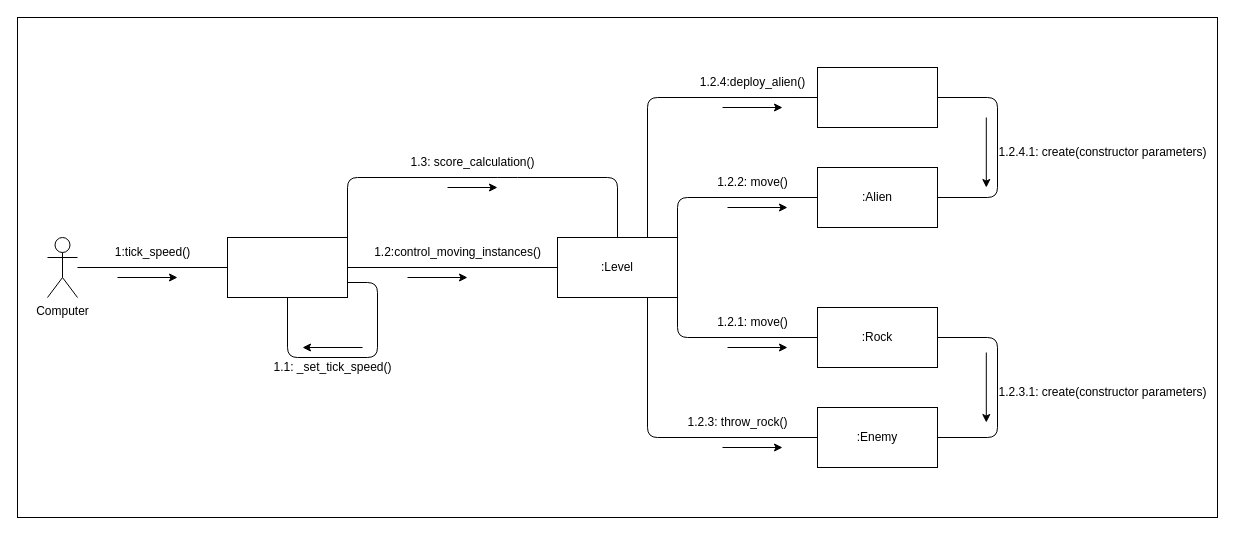
The diagram is 1235 pixels wide and 535 high, and some of its shapes have lost their labels. The shapes that lost their labels are listed below. From the top down, each one's centre as x and y in pixels, then its label:
At point 877,97: ":AlienSpaceship".
At point 287,267: ":Game".
